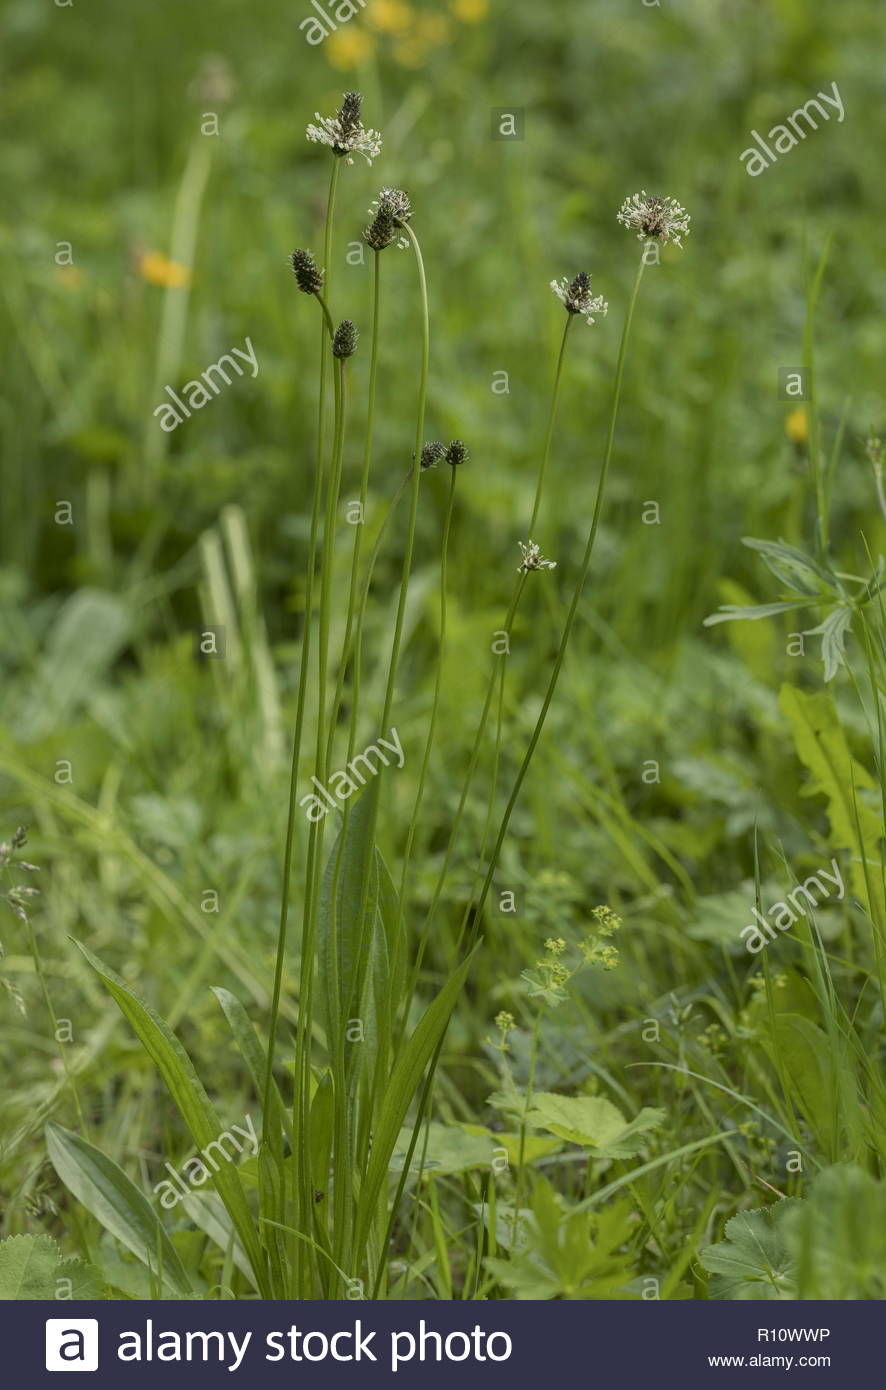buckhorn plantain: (202, 82, 686, 1306)
